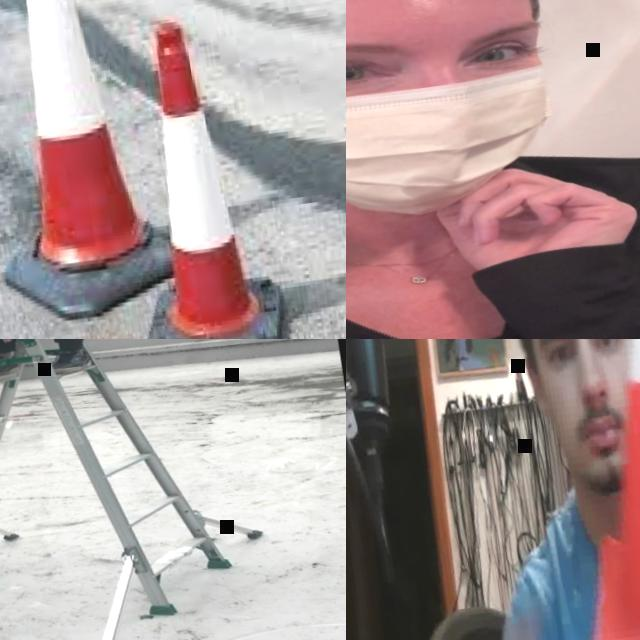mask: (346, 21, 557, 231)
no_mask: (563, 396, 636, 490)
no_vest: (346, 166, 640, 339), (519, 515, 629, 640)
person: (346, 0, 640, 339), (440, 339, 640, 640)
safety_cone: (102, 13, 290, 339), (0, 0, 184, 331), (501, 339, 640, 640)
